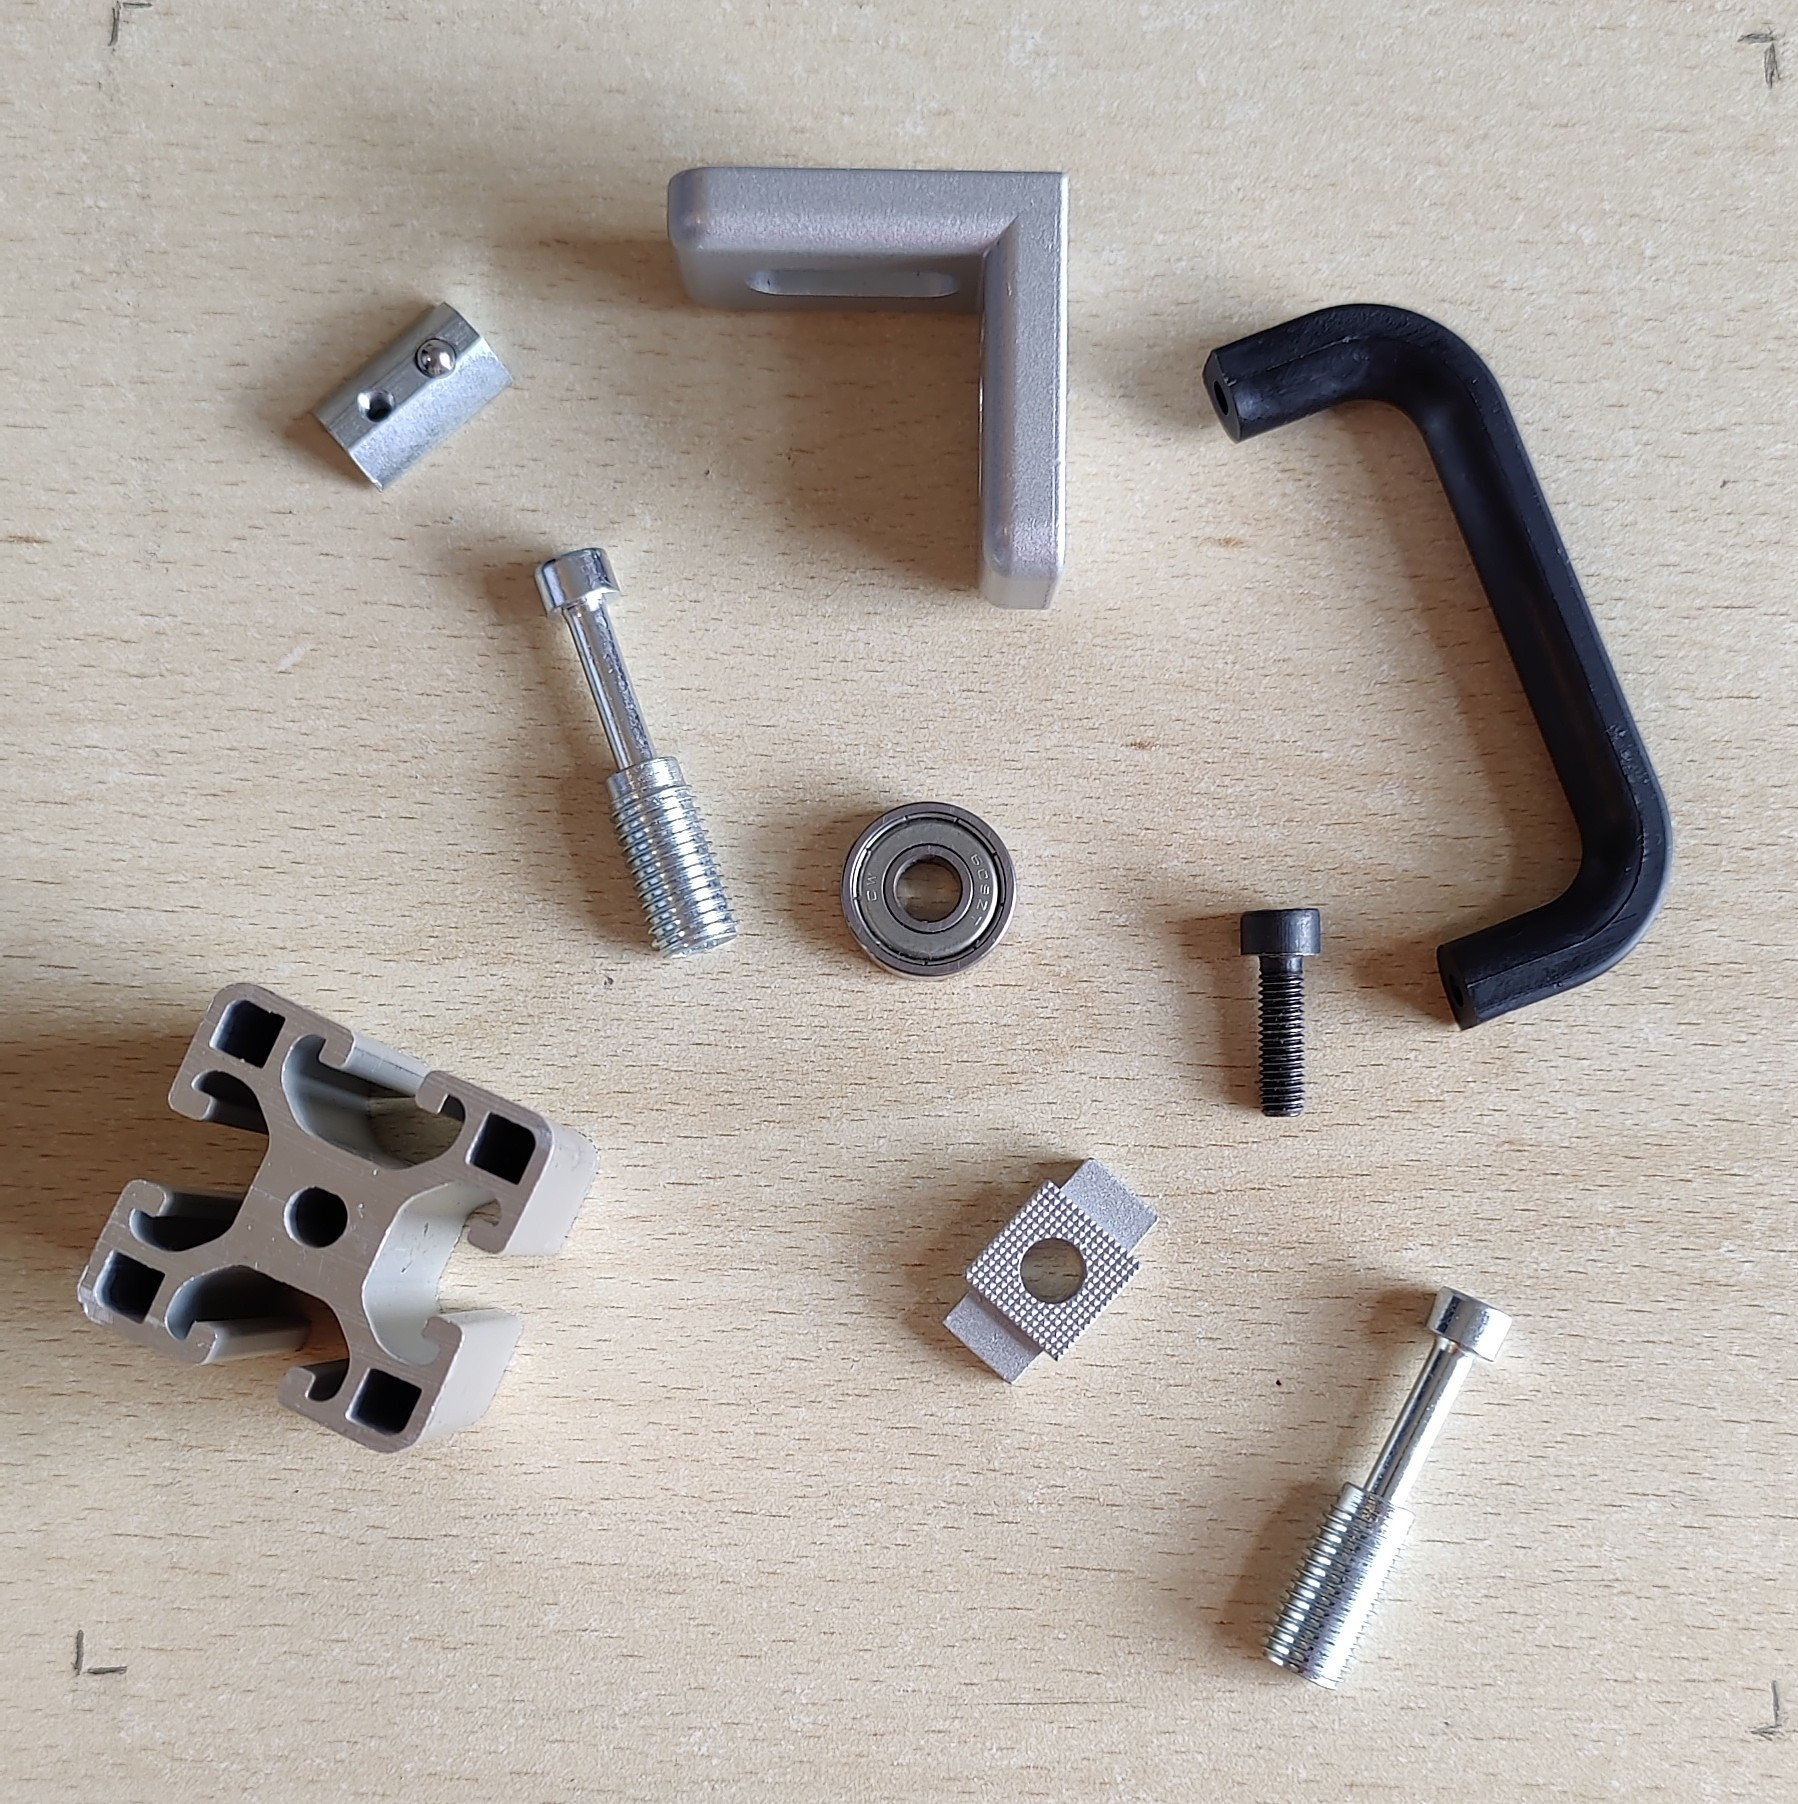Aluminium Extension: (71, 979, 603, 1458)
Ball Bearing: (836, 798, 1018, 984)
Multiwinkel: (660, 160, 1074, 614)
Pull Handle: (1199, 300, 1676, 1034)
Shoulder Socket Head Cap Screw: (1256, 1282, 1516, 1694), (529, 545, 744, 963)
Socket Head Cap Screw: (1237, 904, 1329, 1121)
T Nut Square: (939, 1152, 1161, 1389)
T Spring Nut: (306, 300, 519, 492)
